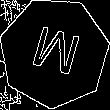M_S: (26, 22, 83, 83)
